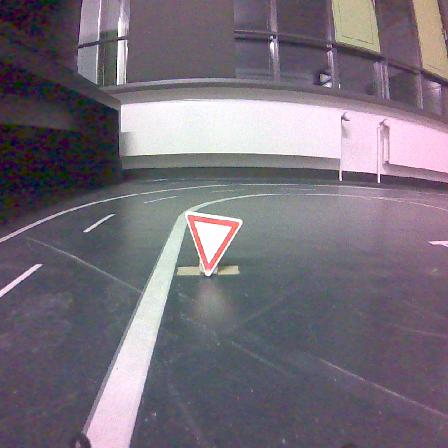GIVE_WAY: (185, 212, 242, 275)
